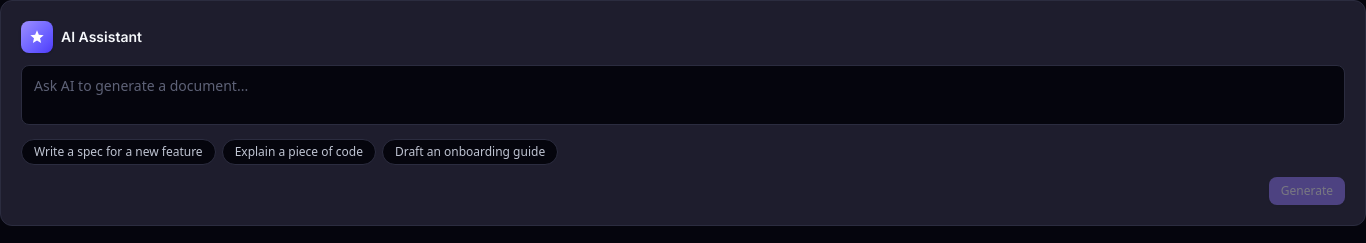
Test: DashboardAIPrompt › quick action chip fills textarea
Click the button "Write a spec for a new feature".
click(118, 152)  # box [21,139,216,165]
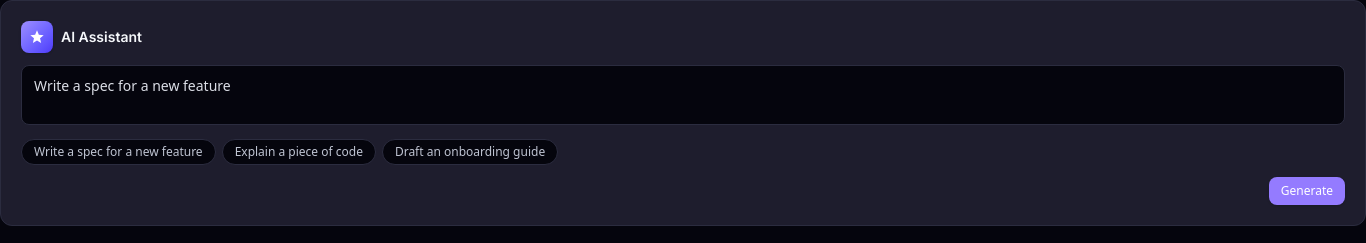
Result: the text box with placeholder "Ask AI to generate a document..." holds "Write a spec for a new feature" at [21,65,1345,125]
